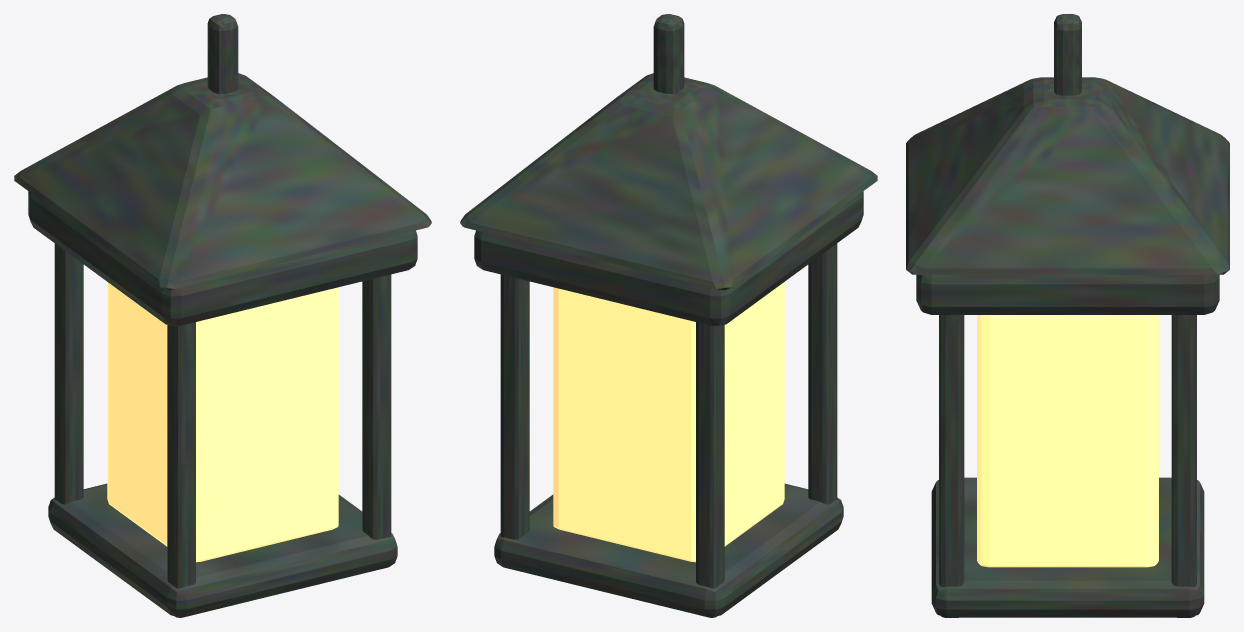
File: SM_HH_V3_Lantern.fbx
The picture shows the model from 3 angles, left to right: view 1: azimuth 30°, elevation 25°; view 2: azimuth 150°, elevation 25°; view 3: azimuth 270°, elevation 25°; orthographic projection. The views are drawn at different scales.
Visible parts, largest first — view 1: HH_V3_Lantern; view 2: HH_V3_Lantern; view 3: HH_V3_Lantern.
Part boxes in pixels (x1,y1,x2,y2): HH_V3_Lantern: (14,14,431,617); HH_V3_Lantern: (460,14,877,617); HH_V3_Lantern: (906,14,1229,617).
Size of the model in its own units: 0.3203 by 0.3203 by 0.6.
